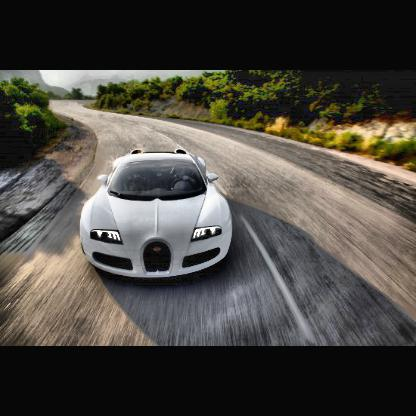Bugatti Veyron 16-4 Coupe 2009: (82, 147, 232, 279)
